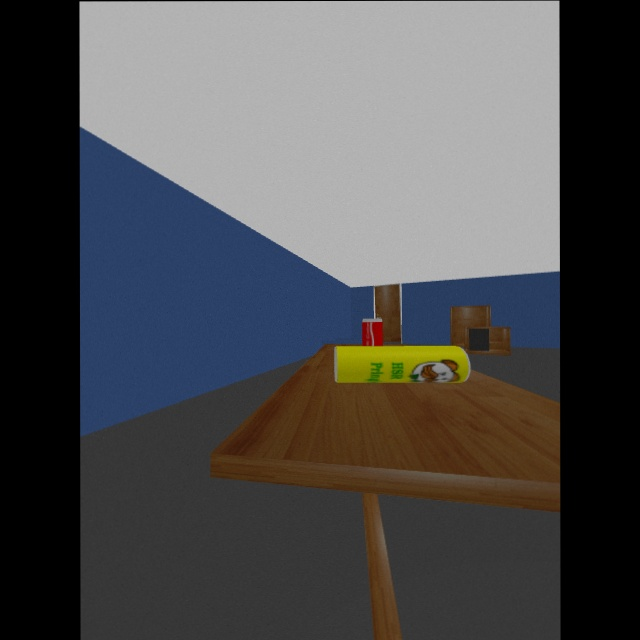chipsdose_gelb: (333, 345, 472, 384)
